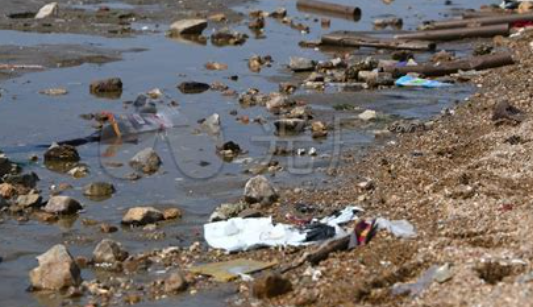garbage: (196, 210, 400, 251), (98, 97, 190, 141), (186, 260, 282, 281), (393, 64, 454, 93)
